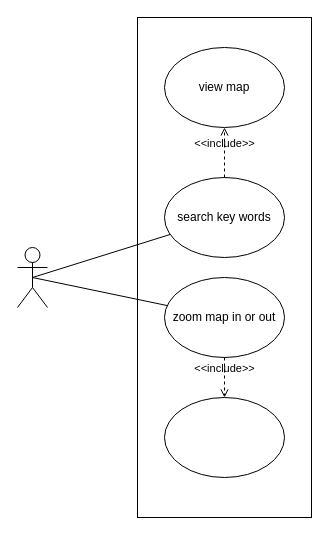
The diagram is 329 pixels wide and 535 high, and some of its shapes have lost their labels. The centre of each missing label's shape, as x and y in pixels:
"Actor" belongs at (32,277).
"click map details" belongs at (224,437).
